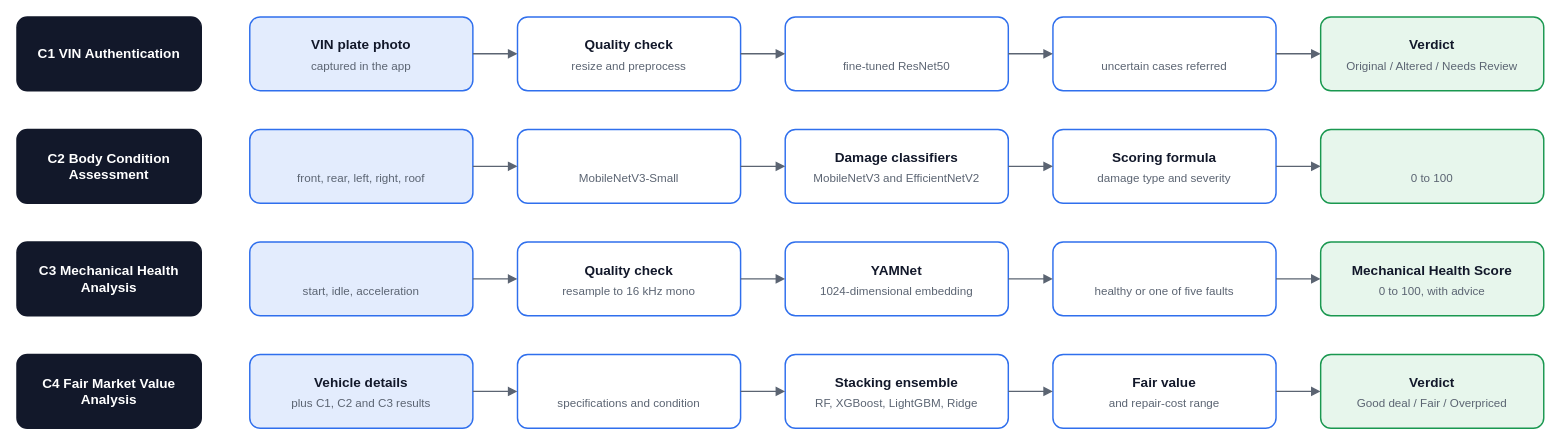
Some shapes in this 1562 by 446 pixel diagram are drawn without their labels. Here are the shapes that lost their labels. From the top down, the box of each, then its label:
(784, 16, 1009, 91): CNN classifier
(1052, 16, 1276, 91): Confidence check
(249, 128, 473, 204): Five view photos
(516, 128, 741, 204): View validator
(1319, 128, 1544, 204): Body Condition Score
(249, 241, 473, 316): Three recordings
(1052, 241, 1276, 316): SVM classifier
(516, 353, 741, 429): Feature engineering
